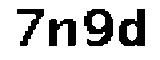7: (11, 6, 45, 49)
9: (81, 5, 118, 54)
d: (117, 5, 154, 50)
n: (46, 16, 79, 52)
